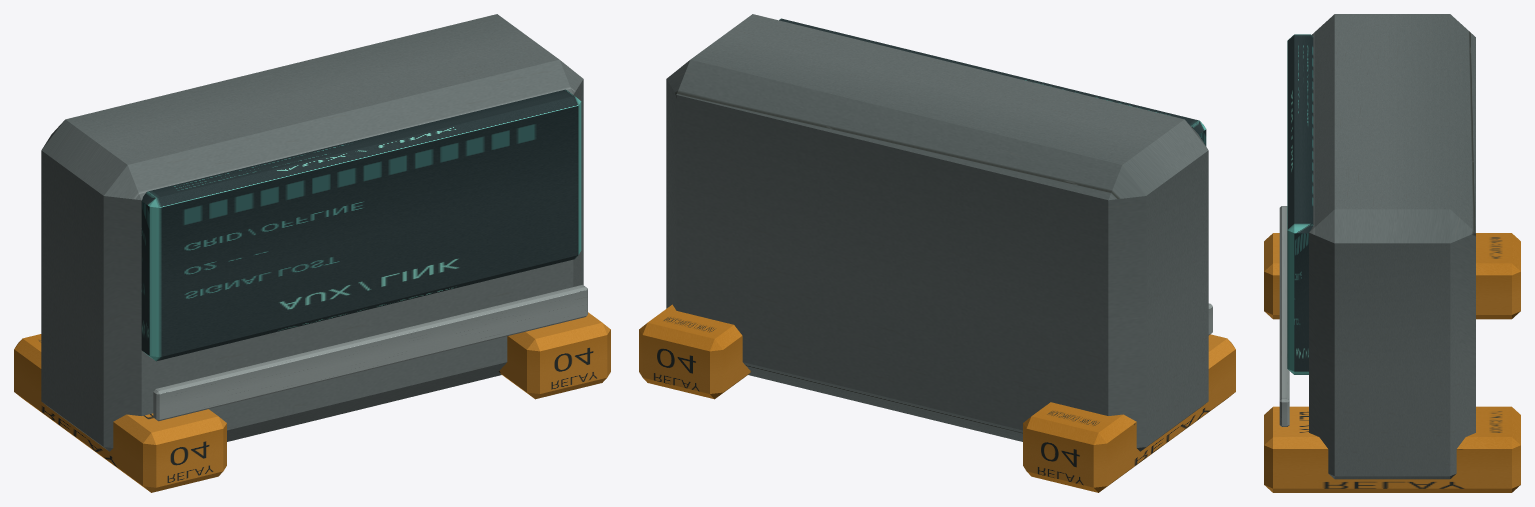
File: barricade_2m_LOD1.obj
3 views of the same model, side by side, from view 1: azimuth 30°, elevation 25°; view 2: azimuth 150°, elevation 25°; view 3: azimuth 270°, elevation 25° (orthographic). The views are drawn at different scales.
Parts seen in each view (by area): view 1: L02_barricade_2m_LOD1; view 2: L02_barricade_2m_LOD1; view 3: L02_barricade_2m_LOD1.
Part boxes in pixels (box(x1,y1,x2,y2)): L02_barricade_2m_LOD1: box(14, 14, 610, 492); L02_barricade_2m_LOD1: box(639, 14, 1235, 492); L02_barricade_2m_LOD1: box(1264, 14, 1520, 492).
Bounding box in the file's own units: 2 × 1.2 × 1.
Materials: 1 (1 with a texture image).
